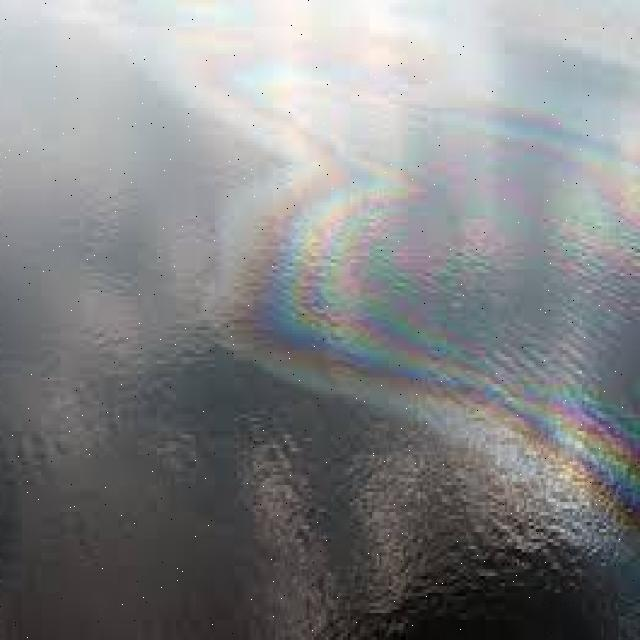rainbow: (268, 109, 639, 510)
